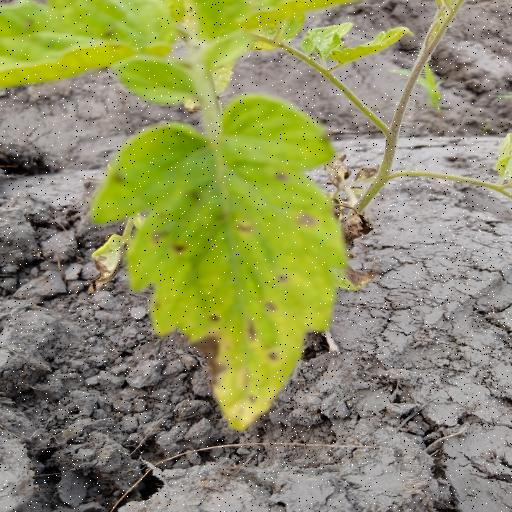Tomato_Brown_Spots: (81, 95, 348, 434)
